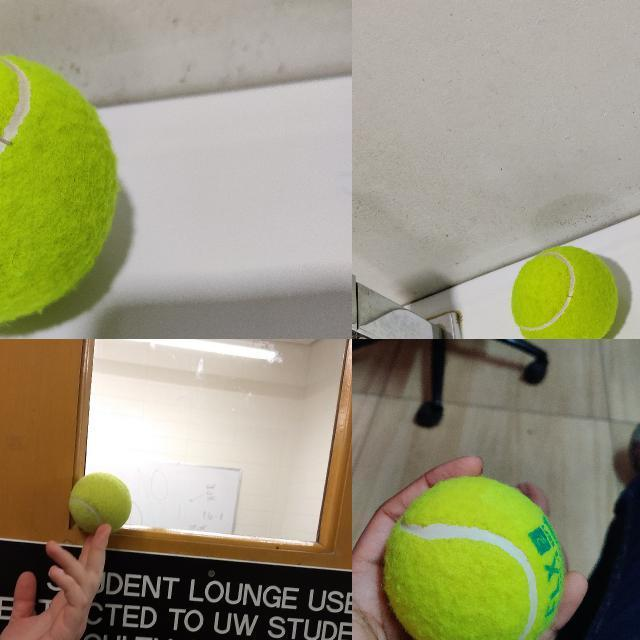tennis-ball: (0, 50, 122, 329), (383, 476, 563, 639), (509, 244, 620, 338), (68, 471, 132, 535)
